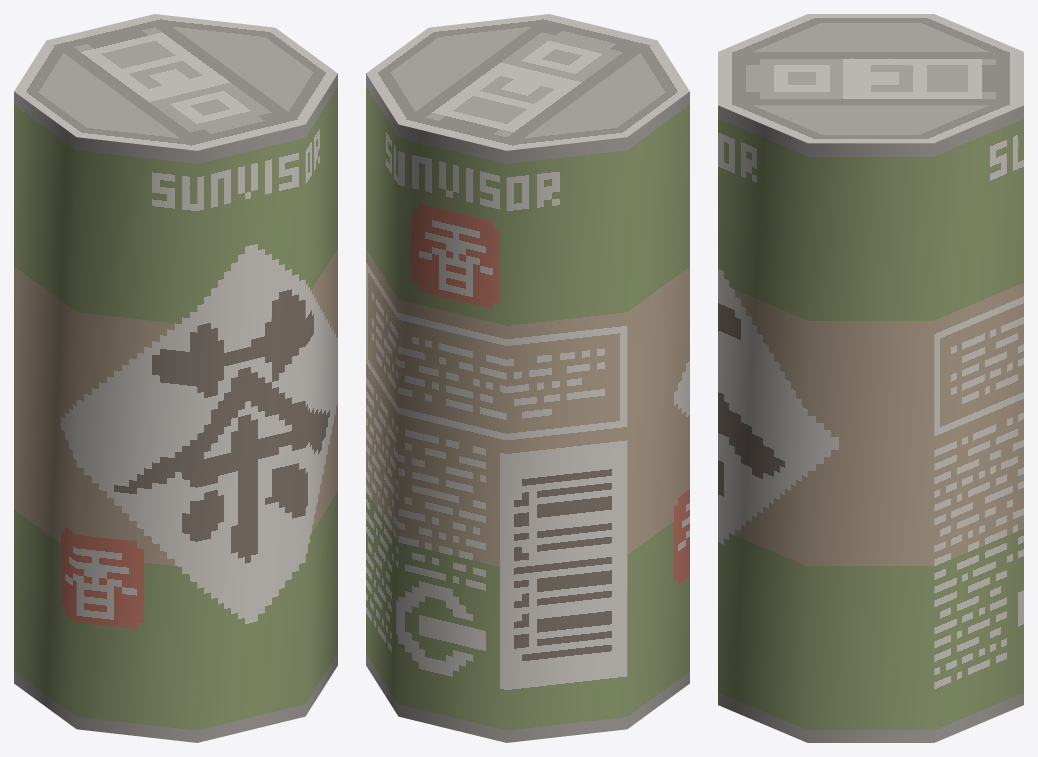
Rendered from 0351_Green_Tea_Can.glb.
The picture shows the model from 3 angles, left to right: view 1: azimuth 30°, elevation 25°; view 2: azimuth 150°, elevation 25°; view 3: azimuth 270°, elevation 25°; orthographic projection.
Visible parts, largest first — view 1: part_0; view 2: part_0; view 3: part_0.
Part boxes in pixels (left/top/right/bottom): part_0: left=14, top=14, right=337, bottom=742; part_0: left=366, top=14, right=689, bottom=742; part_0: left=718, top=14, right=1023, bottom=742.
Size of the model in its own units: 0.0554 by 0.12 by 0.0554.
Materials: 1 (1 with a texture image).
